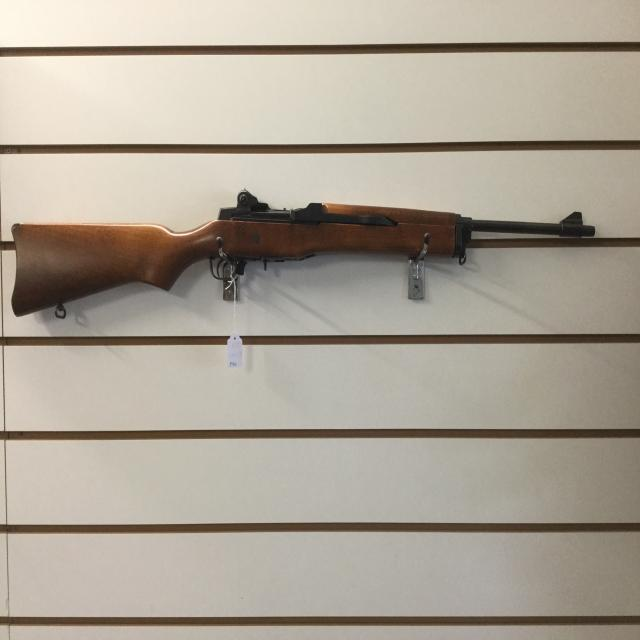weapon: (11, 185, 597, 318)
